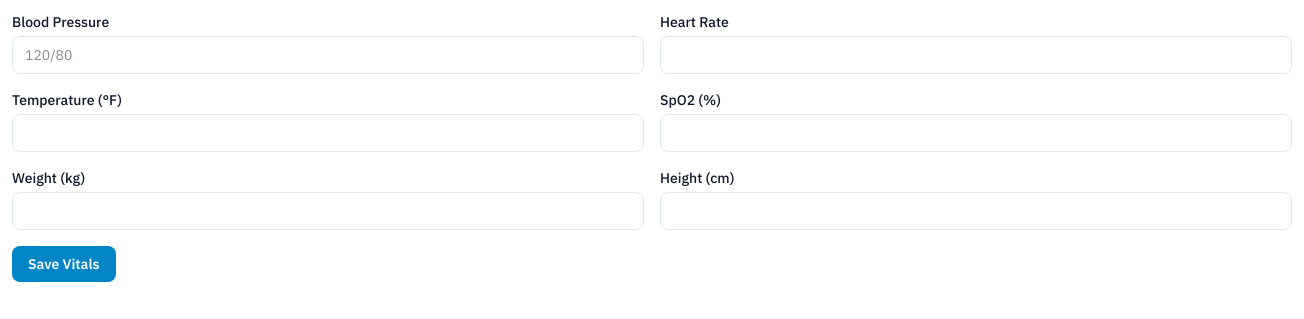
Test: VitalsForm › shows a validation error for a malformed blood pressure value
Type "notbp" into the field labelled "Blood Pressure" at (328, 55), box [12,36,644,74]
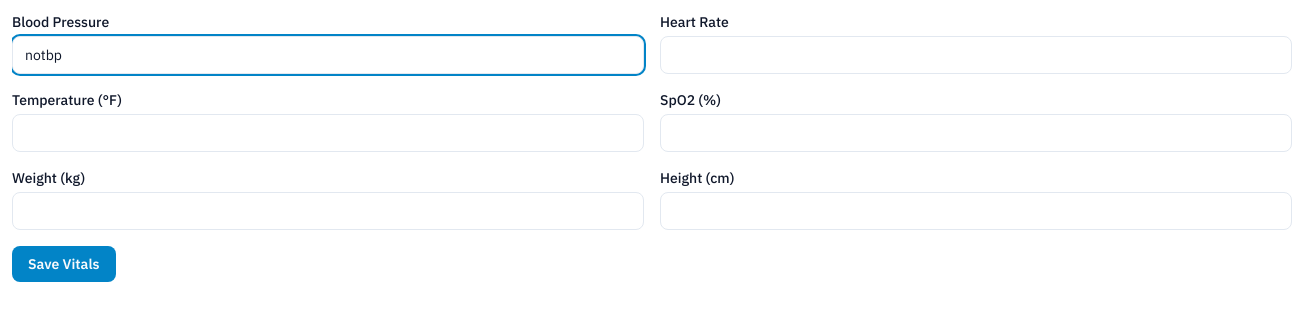
Click the button "Save Vitals" at (64, 264), box [12,246,116,282]
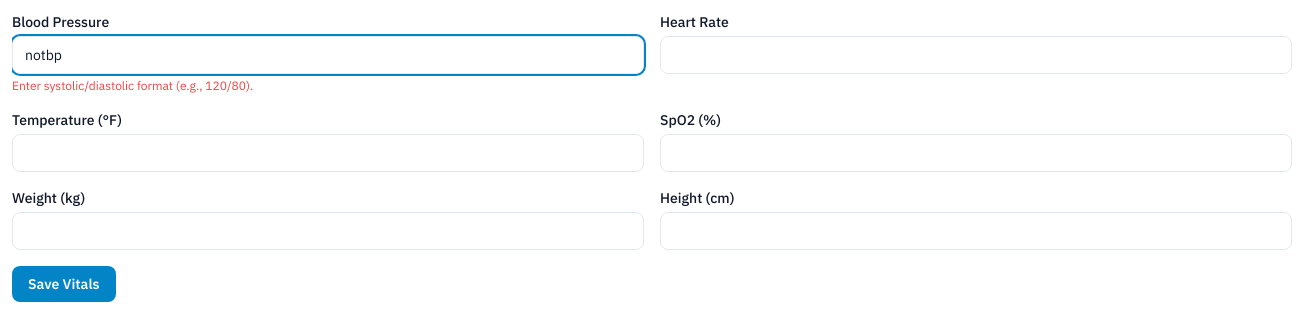
Expected: the text "Enter systolic/diastolic format (e.g., 120/80)." is shown, [12,78,253,93]
